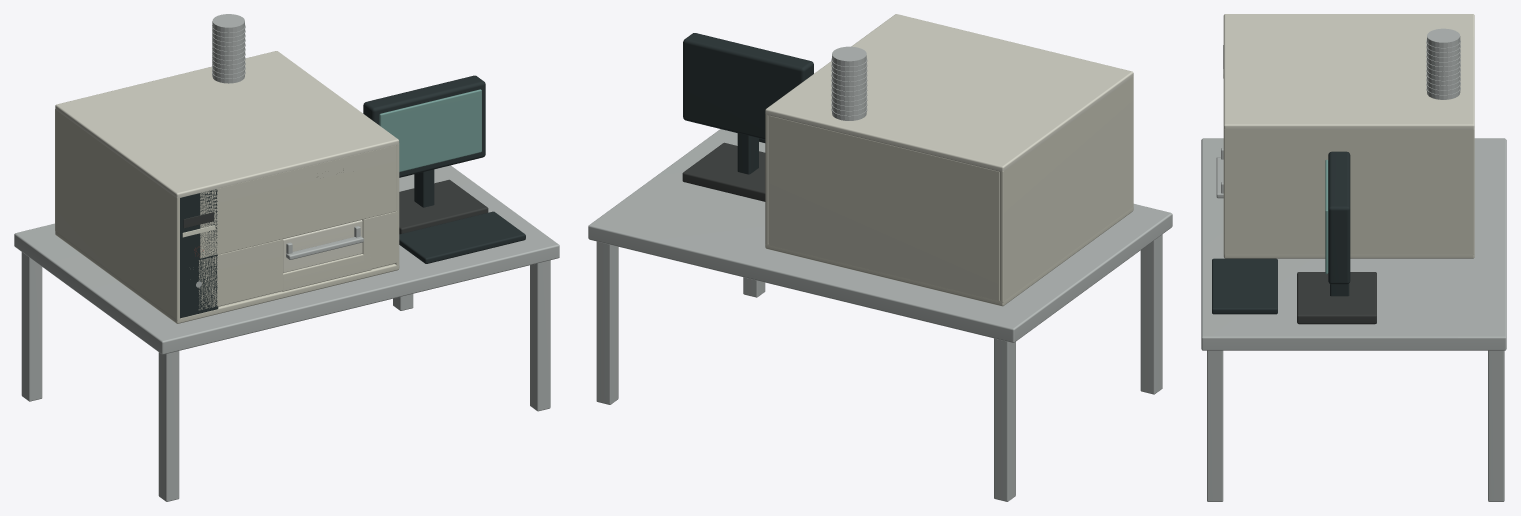
Rendered from rtp600xp.glb.
The picture shows the model from 3 angles, left to right: view 1: azimuth 30°, elevation 25°; view 2: azimuth 150°, elevation 25°; view 3: azimuth 270°, elevation 25°; orthographic projection. The views are drawn at different scales.
Parts seen in each view (by area): view 1: Cabinet_nominal_top, Workbench_plate, Cabinet_side_-300, Upper_face_skin, Inert_console_screen, Left_face_below, Static_control_column, Keyboard_silhouette, Workbench_leg_-338-310, Workbench_leg_678-310, Workbench_leg_-338340, Console_monitor_housing (+8 smaller); view 2: Rear_inactive_plane, Cabinet_nominal_top, Workbench_plate, Cabinet_side_-300, Console_monitor_housing, Workbench_leg_678340, Workbench_leg_-338340, Workbench_leg_-338-310, View_only_console_foot, Exterior_duct_outline, Cabinet_base, Console_stalk; view 3: Cabinet_side_300, Cabinet_nominal_top, Workbench_plate, Keyboard_silhouette, View_only_console_foot, Console_monitor_housing, Workbench_leg_678340, Workbench_leg_678-310, Exterior_duct_outline, Cabinet_base, Inert_console_screen.
Part boxes in pixels (x1=…): Cabinet_nominal_top: x1=55, y1=51, x2=399, y2=197; Workbench_plate: x1=14, y1=165, x2=559, y2=354; Cabinet_side_-300: x1=55, y1=109, x2=179, y2=320; Upper_face_skin: x1=200, y1=145, x2=396, y2=258; Inert_console_screen: x1=379, y1=89, x2=481, y2=172; Left_face_below: x1=198, y1=239, x2=283, y2=310; Static_control_column: x1=180, y1=189, x2=218, y2=318; Keyboard_silhouette: x1=399, y1=211, x2=525, y2=263; Workbench_leg_-338-310: x1=158, y1=351, x2=179, y2=501; Workbench_leg_678-310: x1=530, y1=260, x2=550, y2=411; Workbench_leg_-338340: x1=21, y1=252, x2=42, y2=401; Console_monitor_housing: x1=363, y1=75, x2=485, y2=177; Rear_inactive_plane: x1=768, y1=115, x2=999, y2=301; Cabinet_nominal_top: x1=765, y1=14, x2=1133, y2=171; Workbench_plate: x1=588, y1=129, x2=1172, y2=342; Cabinet_side_-300: x1=1000, y1=76, x2=1133, y2=302; Console_monitor_housing: x1=683, y1=33, x2=813, y2=139; Workbench_leg_678340: x1=596, y1=241, x2=618, y2=404; Workbench_leg_-338340: x1=994, y1=338, x2=1015, y2=501; Workbench_leg_-338-310: x1=1140, y1=234, x2=1162, y2=394; View_only_console_foot: x1=682, y1=142, x2=765, y2=201; Exterior_duct_outline: x1=832, y1=46, x2=866, y2=120; Cabinet_base: x1=765, y1=207, x2=1133, y2=306; Console_stalk: x1=737, y1=133, x2=758, y2=174; Cabinet_side_300: x1=1223, y1=129, x2=1474, y2=254; Cabinet_nominal_top: x1=1223, y1=14, x2=1474, y2=129; Workbench_plate: x1=1201, y1=138, x2=1506, y2=350; Keyboard_silhouette: x1=1212, y1=258, x2=1277, y2=314; View_only_console_foot: x1=1297, y1=272, x2=1376, y2=324; Console_monitor_housing: x1=1328, y1=151, x2=1350, y2=284; Workbench_leg_678340: x1=1488, y1=350, x2=1504, y2=501; Workbench_leg_678-310: x1=1207, y1=350, x2=1223, y2=501; Exterior_duct_outline: x1=1427, y1=28, x2=1460, y2=99; Cabinet_base: x1=1223, y1=254, x2=1474, y2=258; Inert_console_screen: x1=1325, y1=159, x2=1328, y2=273.
Size of the model in its own units: 1.09 by 0.926 by 0.705.
